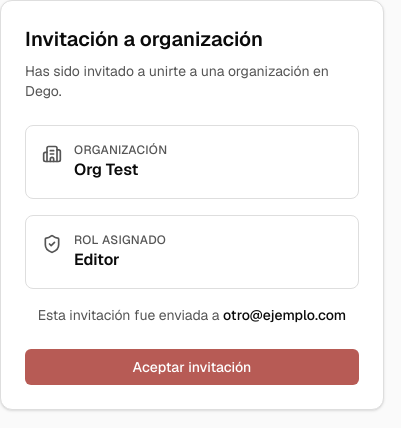
Test: AceptarInvitacionScreen — mensajes de error por código › muestra el mensaje correcto para INVITACION_OTRO_CORREO al aceptar
The width and height of the screenshot is (401, 428).
Click the button "Aceptar invitación": [192, 367] box [25,349,359,385]
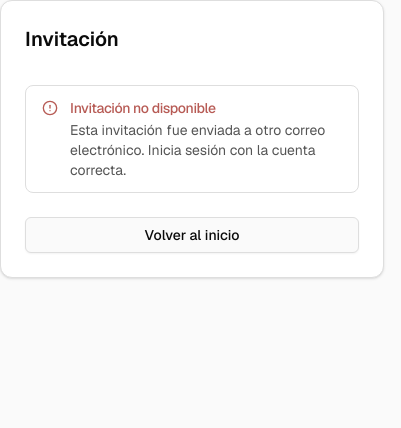
Check: the text "Esta invitación fue enviada a otro correo electrónico." is shown, box [70,121,325,179]
